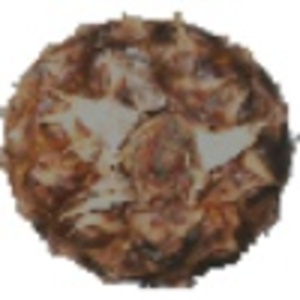abacaxi: (3, 14, 290, 278)
